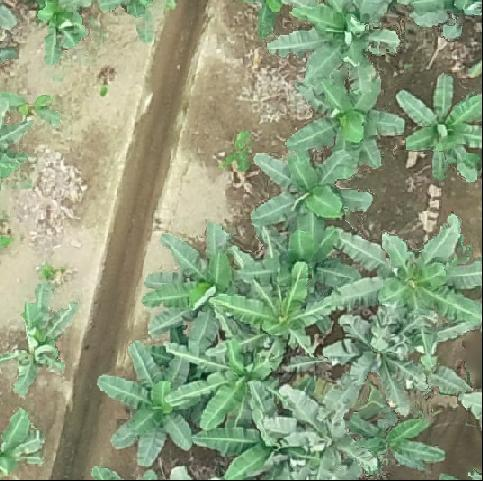Banana-plant: (326, 215, 483, 369), (322, 297, 475, 414), (246, 142, 375, 261), (212, 259, 333, 385), (165, 316, 293, 435), (199, 380, 333, 481), (142, 225, 247, 353), (98, 342, 203, 469), (287, 70, 405, 181), (254, 379, 375, 481), (269, 0, 400, 92), (392, 72, 483, 184), (0, 282, 80, 397), (329, 402, 447, 475), (0, 408, 44, 481)
